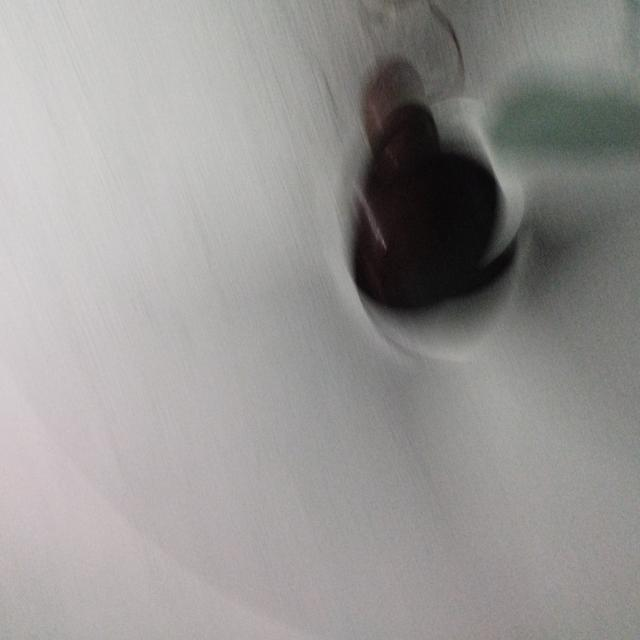fan_on: (153, 2, 640, 598)
